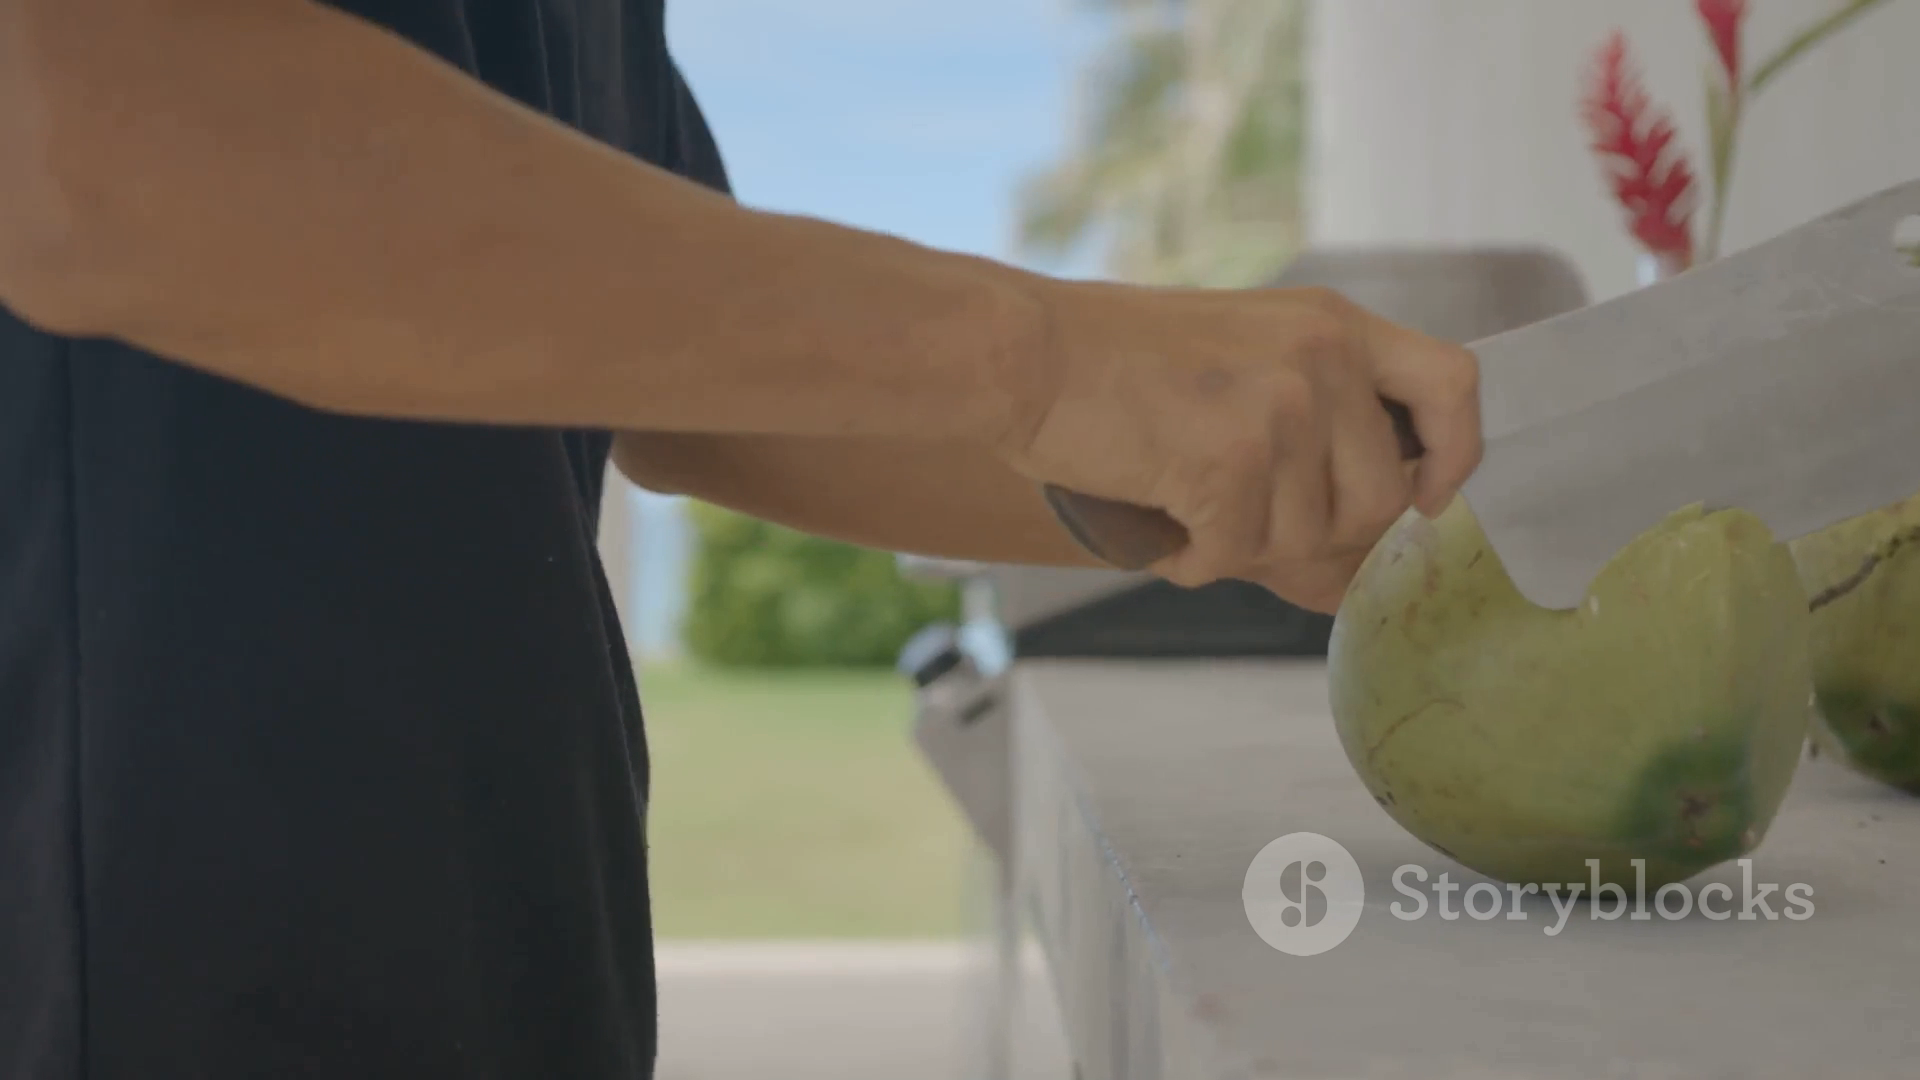cortante: (1423, 177, 1920, 609)
